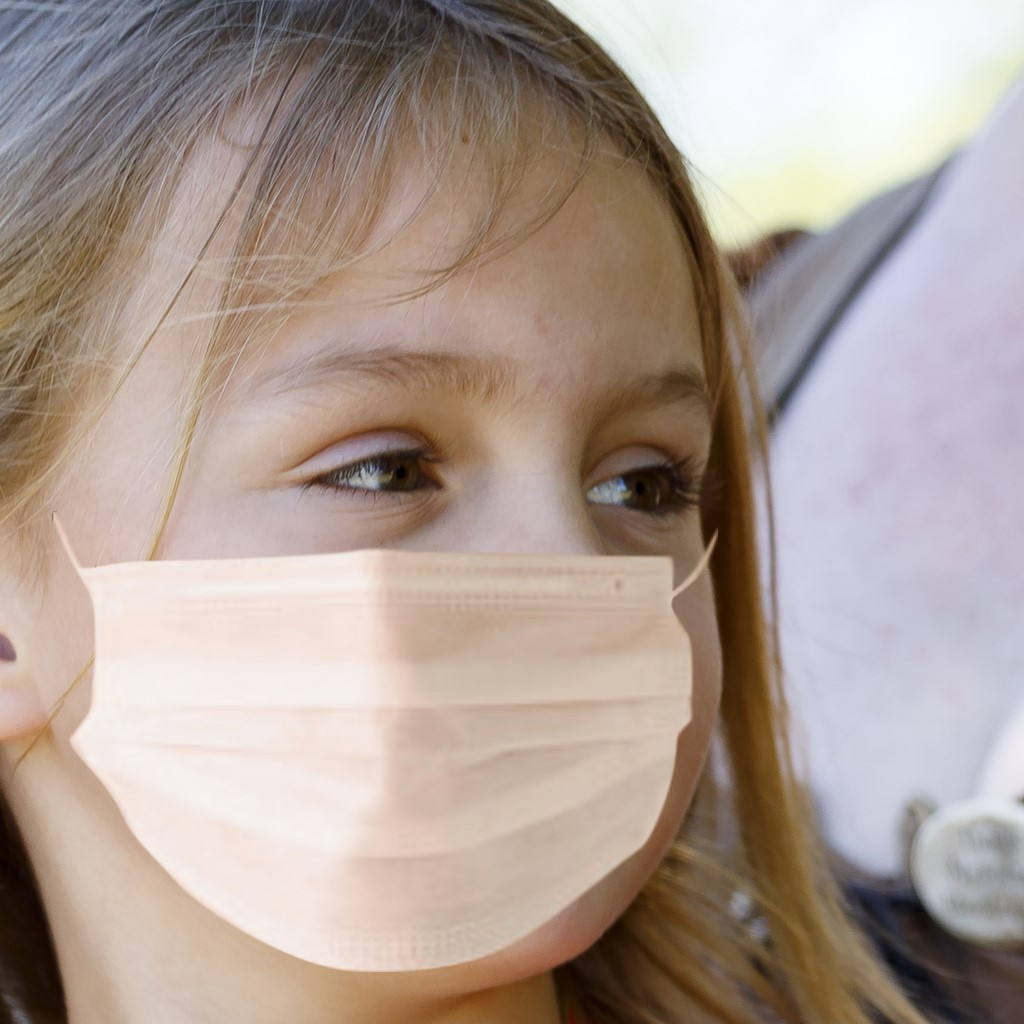con_mascara: (62, 93, 737, 976)
